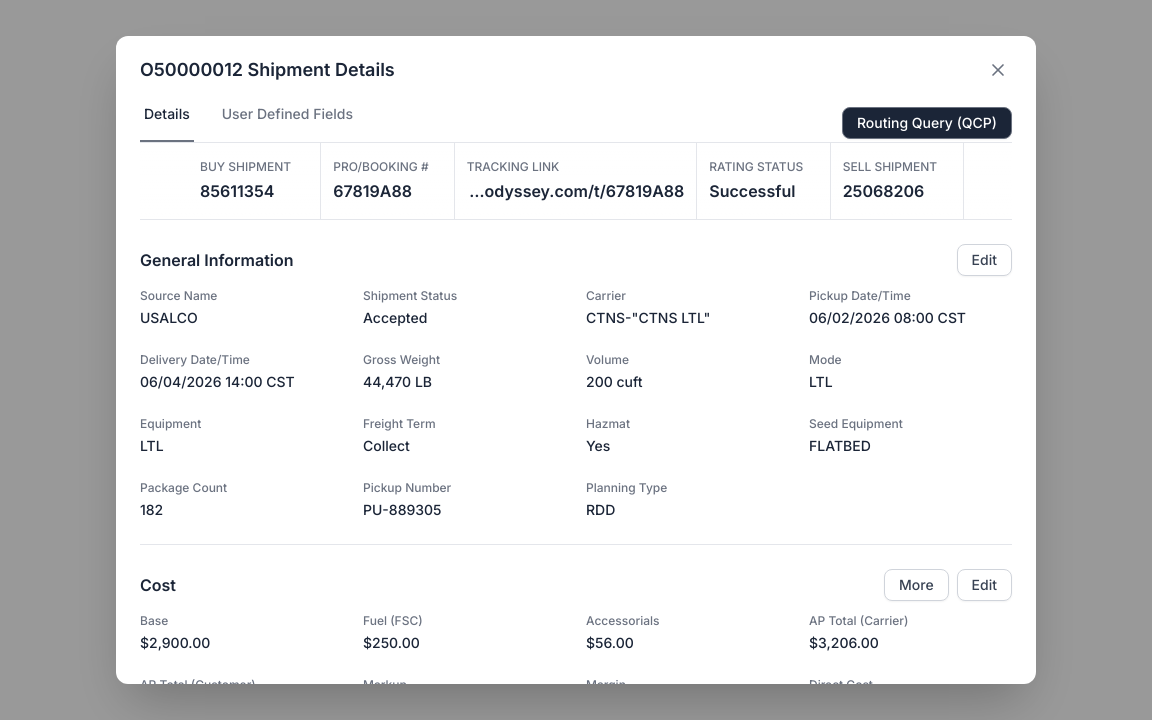
Scenario: section edit affordance › clicking Edit swaps the button to a disabled Save Changes
The image size is (1152, 720).
Click the button with aria-label "Edit General Information" at (984, 260), box [957,244,1012,276]
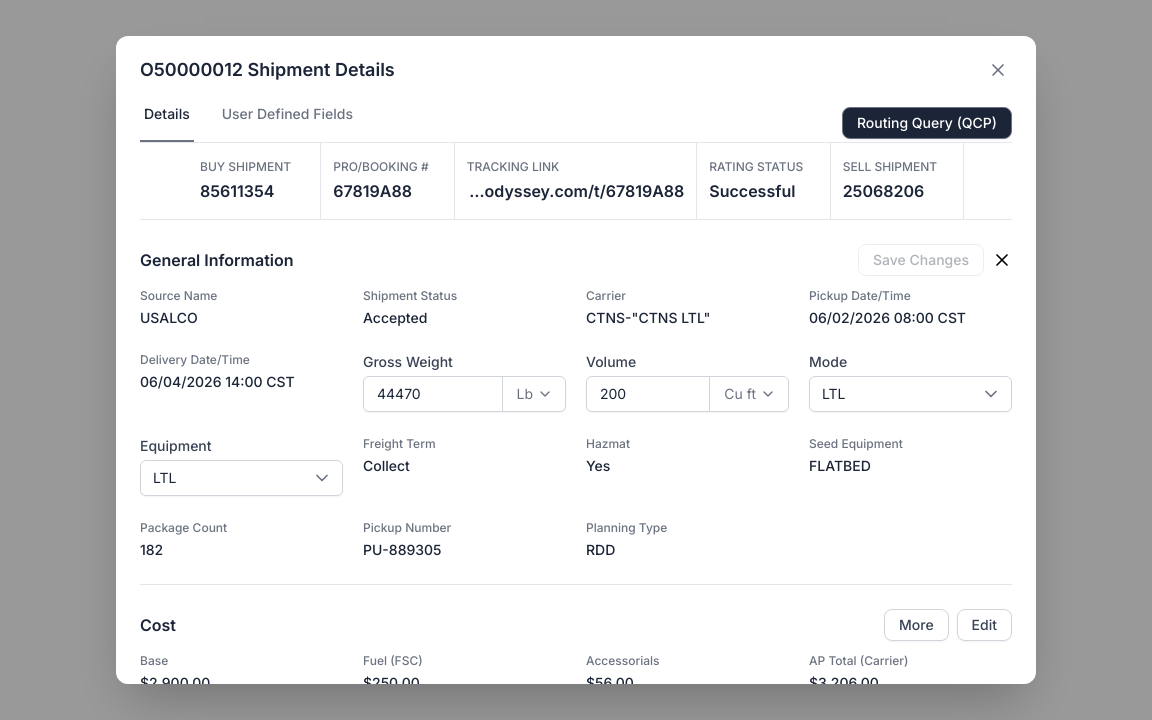
Expected: the button "Save Changes" is disabled, [858,244,984,276]
